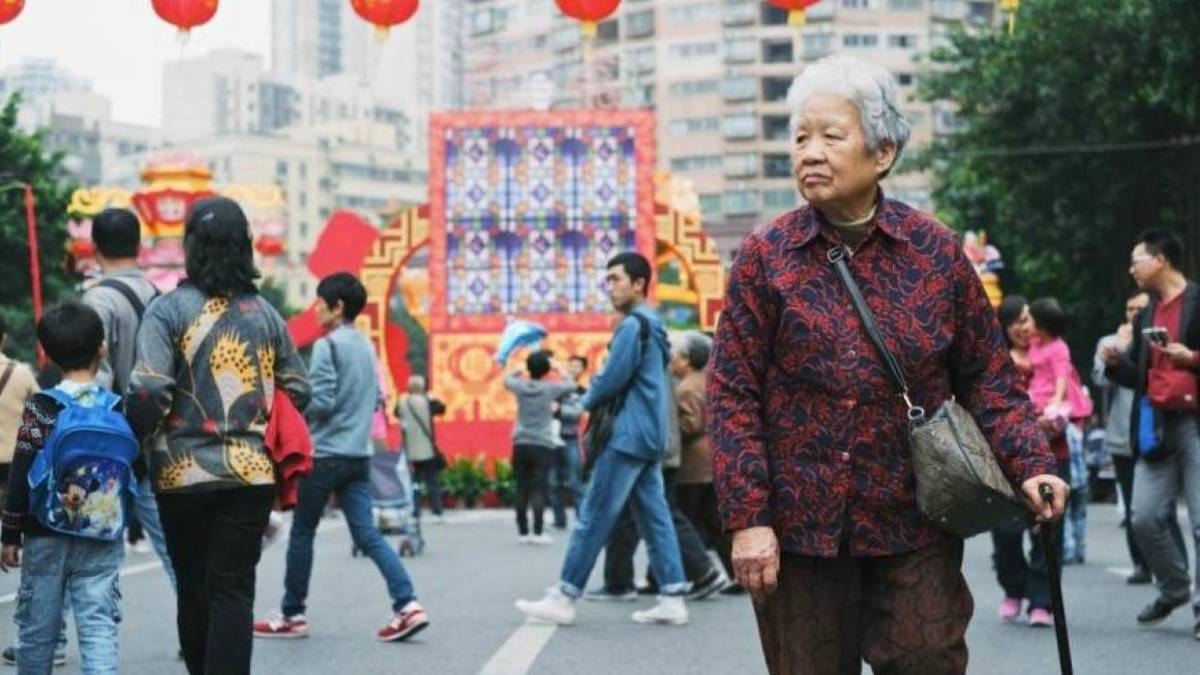Humano: (729, 60, 990, 675), (138, 197, 289, 675), (19, 302, 155, 675), (298, 267, 392, 638), (1129, 227, 1200, 621), (591, 249, 666, 617), (514, 350, 563, 543), (82, 200, 159, 315), (674, 331, 721, 513), (1026, 290, 1082, 425), (403, 375, 451, 508), (560, 350, 589, 521), (994, 287, 1030, 389)
